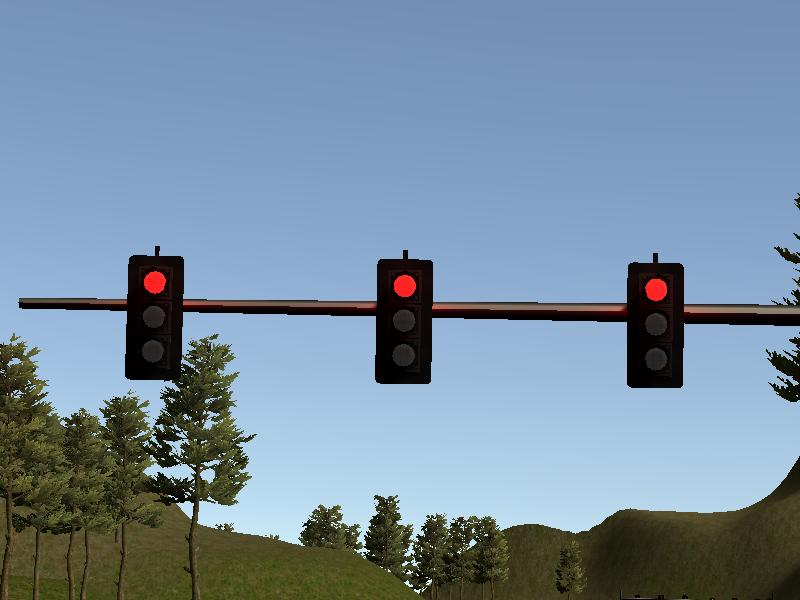Red: (374, 259, 430, 384), (629, 261, 683, 388), (128, 254, 181, 378)
